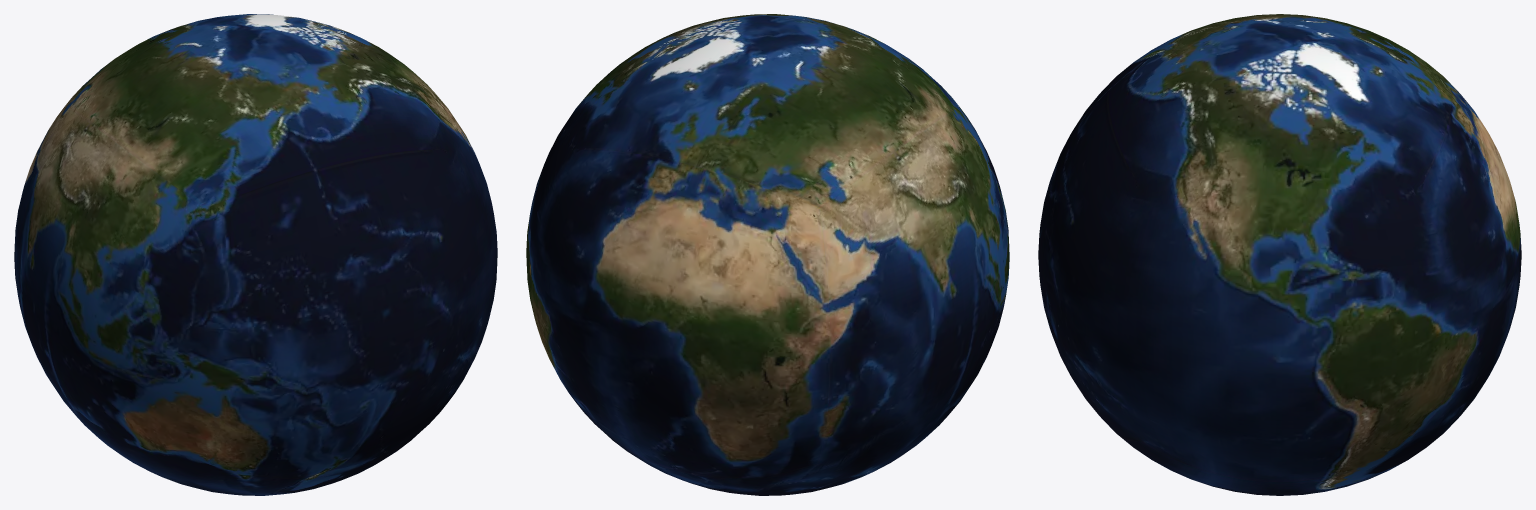
Rendered from earth.glb.
The picture shows the model from 3 angles, left to right: view 1: azimuth 30°, elevation 25°; view 2: azimuth 150°, elevation 25°; view 3: azimuth 270°, elevation 25°; orthographic projection.
Visible parts, largest first — view 1: Cube.001; view 2: Cube.001; view 3: Cube.001.
Boxes of the visible parts, x1=… form: Cube.001: x1=14, y1=14, x2=497, y2=495; Cube.001: x1=526, y1=14, x2=1009, y2=495; Cube.001: x1=1038, y1=14, x2=1521, y2=495.
Size of the model in its own units: 1000 by 997 by 1000.
Materials: 1 (1 with a texture image).
